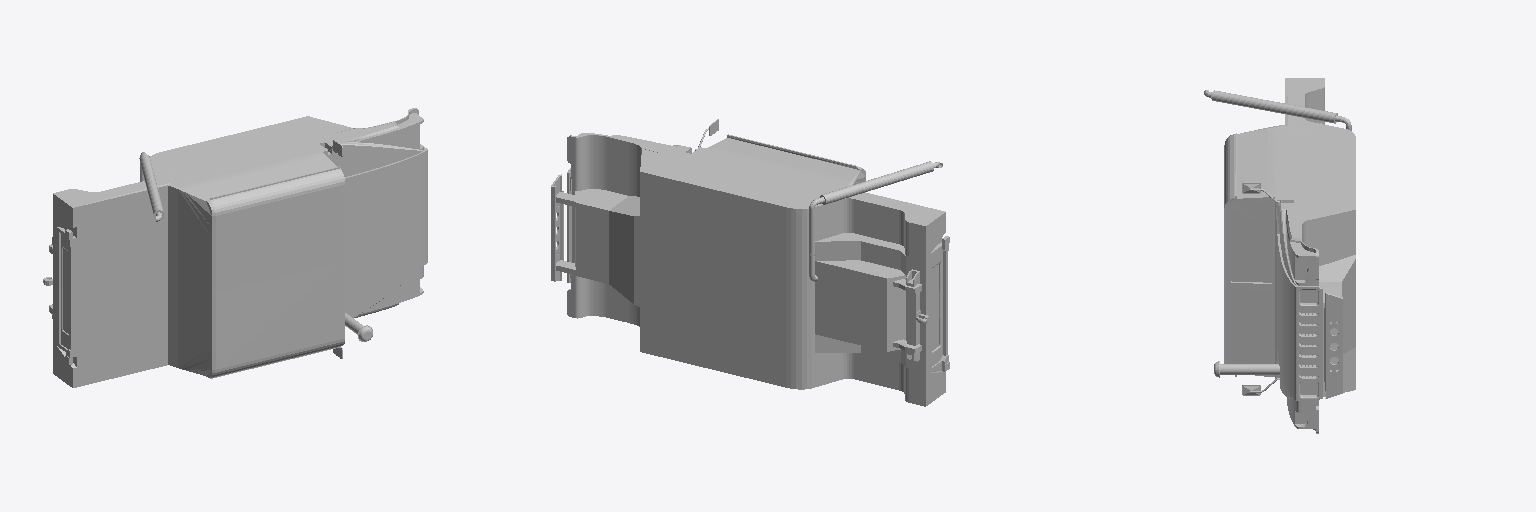
Rendered from hmmwv_chassis_flatbed.obj.
3 renders of one model, left to right at view 1: azimuth 30°, elevation 25°; view 2: azimuth 150°, elevation 25°; view 3: azimuth 270°, elevation 25°, orthographic.
Parts seen in each view (by area): view 1: body_body.001; view 2: body_body.001; view 3: body_body.001.
Boxes of the visible parts, box(x1,y1,x2,y2) form: body_body.001: box(43, 108, 427, 387); body_body.001: box(551, 119, 949, 406); body_body.001: box(1204, 78, 1355, 433).
Size of the model in its own units: 4.67 by 2.56 by 1.65.